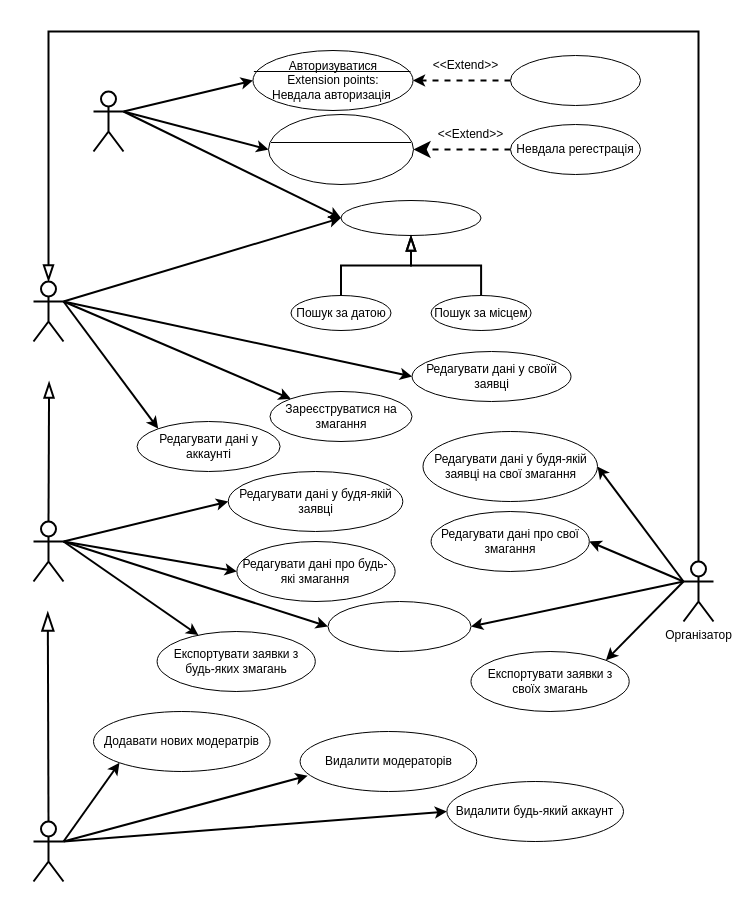
This 750x919 diagram has some shape labels left out. The shapes that lost their labels are listed below. From the top down, each one's centre as x and y in pixels, then its label:
the point at 575,80: Невдала авторизація
the point at 108,121: Гість
the point at 341,149: Зареєструватися Extension points: Невдала реєстрація
the point at 410,218: Пошук змагання
the point at 48,311: Спортсмен
the point at 48,551: Модератор
the point at 399,626: Додати нові змагання
the point at 48,851: Адмін
